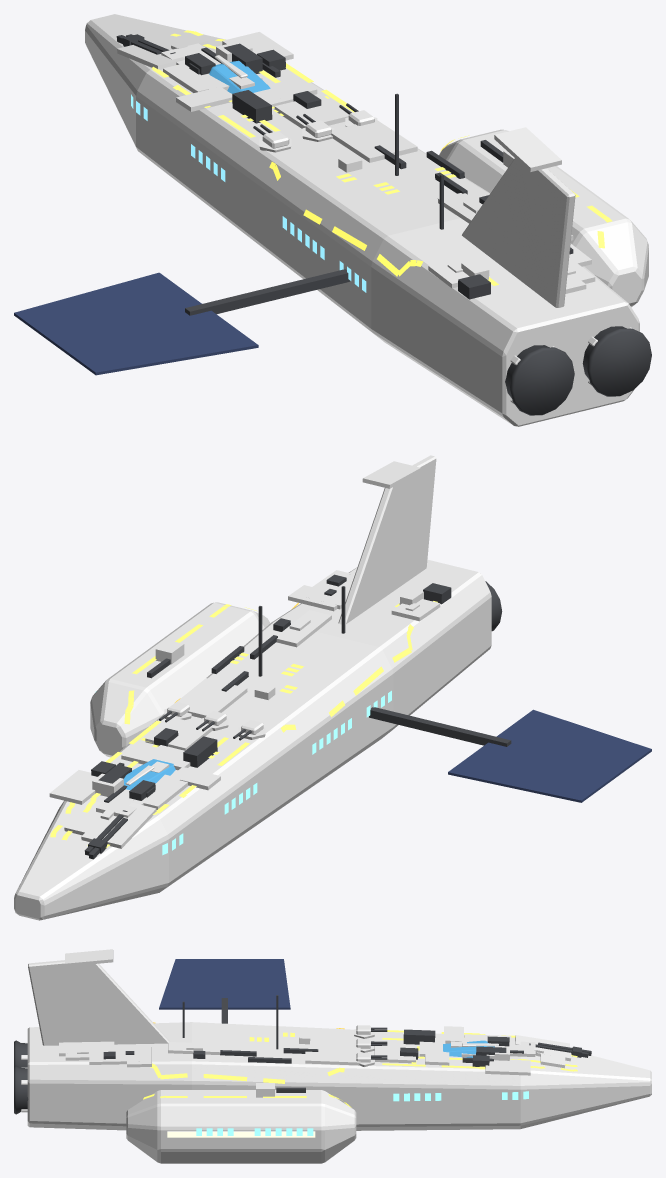
Rendered from brodyaga.glb.
3 renders of one model, top to bottom at view 1: azimuth 30°, elevation 25°; view 2: azimuth 150°, elevation 25°; view 3: azimuth 270°, elevation 25°, orthographic. The views are drawn at different scales.
Parts seen in each view (by area): view 1: Корпус, Накладные_плиты, Солнечный_парус, Парус_ветровой, Жилой_модуль, Механика, Кожух_дюзы.001, Кожух_дюзы, Разметка, Штанга, Решётки, Кабина; view 2: Корпус, Накладные_плиты, Солнечный_парус, Жилой_модуль, Парус_ветровой, Механика, Разметка, Штанга, Решётки; view 3: Корпус, Жилой_модуль, Накладные_плиты, Парус_ветровой, Солнечный_парус, Механика, Разметка, Решётки, Окна, Кожух_дюзы, Кабина.
Part boxes in pixels (left/top/right/bottom): Корпус: left=85, top=14, right=639, bottom=426; Накладные_плиты: left=117, top=32, right=595, bottom=293; Солнечный_парус: left=14, top=272, right=258, bottom=375; Парус_ветровой: left=462, top=158, right=575, bottom=307; Жилой_модуль: left=439, top=129, right=648, bottom=307; Механика: left=116, top=34, right=573, bottom=299; Кожух_дюзы.001: left=505, top=345, right=574, bottom=415; Кожух_дюзы: left=582, top=326, right=651, bottom=396; Разметка: left=152, top=30, right=612, bottom=285; Штанга: left=185, top=269, right=349, bottom=315; Решётки: left=131, top=94, right=366, bottom=292; Кабина: left=209, top=60, right=270, bottom=93; Корпус: left=14, top=559, right=491, bottom=920; Накладные_плиты: left=49, top=461, right=440, bottom=848; Солнечный_парус: left=448, top=709, right=651, bottom=802; Жилой_модуль: left=90, top=602, right=270, bottom=757; Парус_ветровой: left=338, top=455, right=436, bottom=624; Механика: left=84, top=574, right=451, bottom=859; Разметка: left=50, top=601, right=437, bottom=847; Штанга: left=369, top=707, right=511, bottom=746; Решётки: left=95, top=690, right=391, bottom=855; Корпус: left=27, top=1022, right=651, bottom=1130; Жилой_модуль: left=126, top=1090, right=356, bottom=1163; Накладные_плиты: left=59, top=949, right=571, bottom=1097; Парус_ветровой: left=28, top=960, right=170, bottom=1045; Солнечный_парус: left=159, top=959, right=290, bottom=1009; Механика: left=103, top=995, right=591, bottom=1092; Разметка: left=143, top=1022, right=577, bottom=1107; Решётки: left=196, top=1091, right=528, bottom=1135; Окна: left=167, top=1131, right=315, bottom=1137; Кожух_дюзы: left=14, top=1065, right=28, bottom=1114; Кабина: left=443, top=1040, right=494, bottom=1057.
Bounding box in the file's own units: 1.26 × 0.5361 × 1.94.
